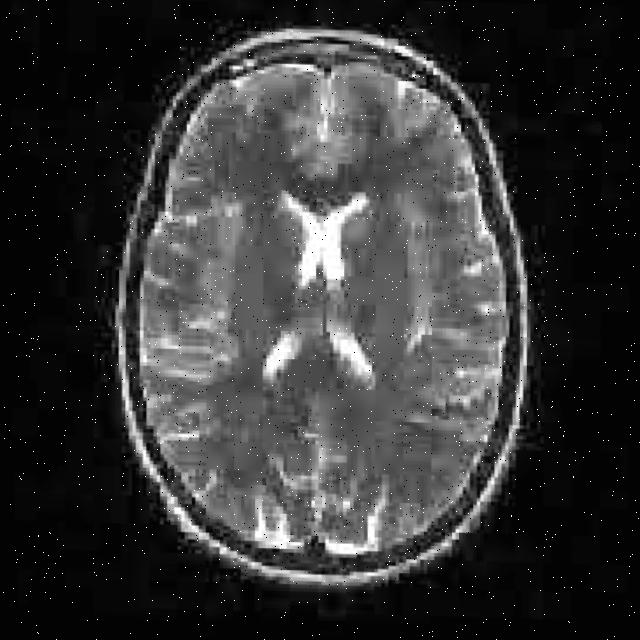NoTumor: (86, 13, 563, 601)
